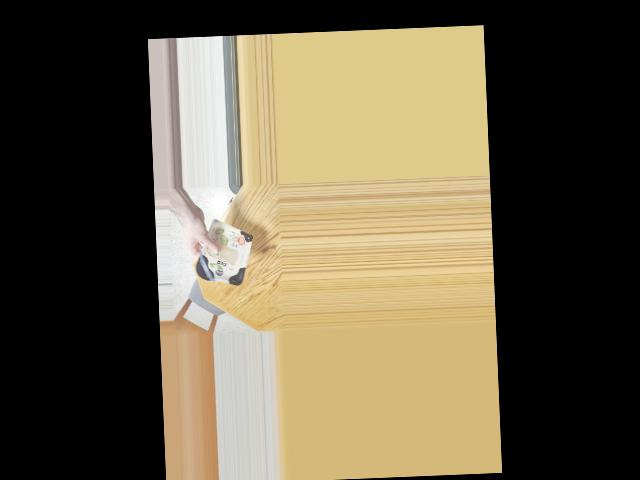cheese: (192, 227, 253, 288)
